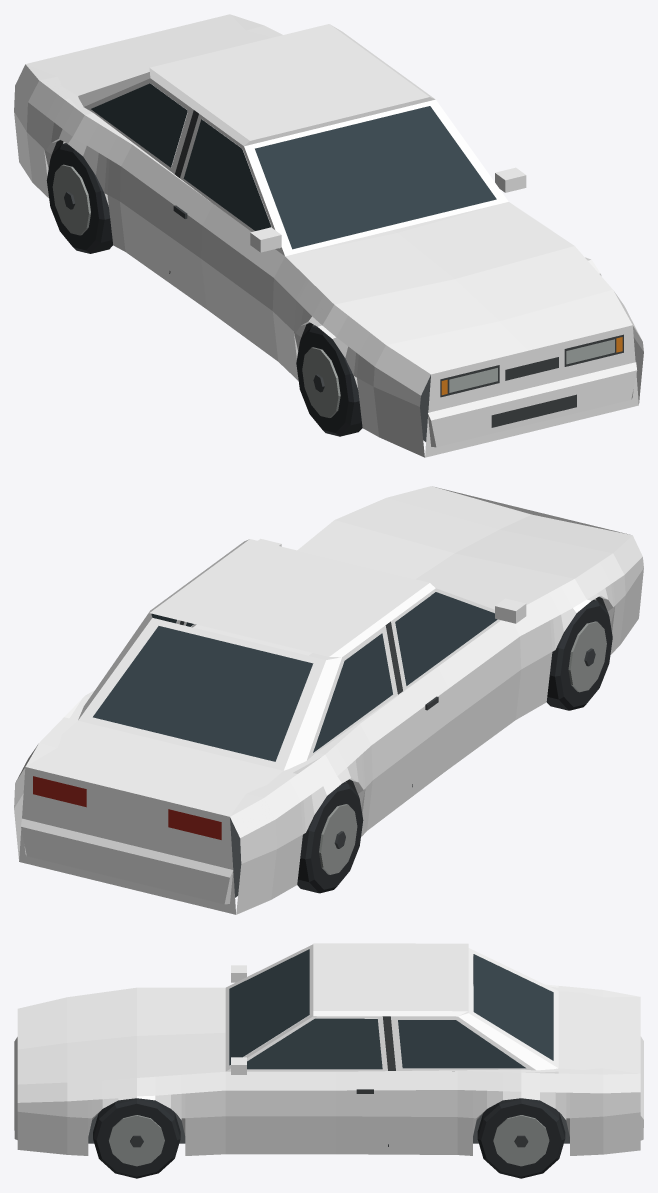
Rendered from ashby_dustbowl.glb.
3 renders of one model, top to bottom at view 1: azimuth 30°, elevation 25°; view 2: azimuth 150°, elevation 25°; view 3: azimuth 270°, elevation 25°, orthographic. The views are drawn at different scales.
Parts seen in each view (by area): view 1: ashby_dustbowl; view 2: ashby_dustbowl; view 3: ashby_dustbowl.
Part boxes in pixels (x1=…): ashby_dustbowl: x1=14, y1=14, x2=643, y2=457; ashby_dustbowl: x1=14, y1=486, x2=643, y2=914; ashby_dustbowl: x1=14, y1=943, x2=643, y2=1178.
Bounding box in the file's own units: 1.82 × 1.26 × 4.7.
Materials: 8 (1 with a texture image).
